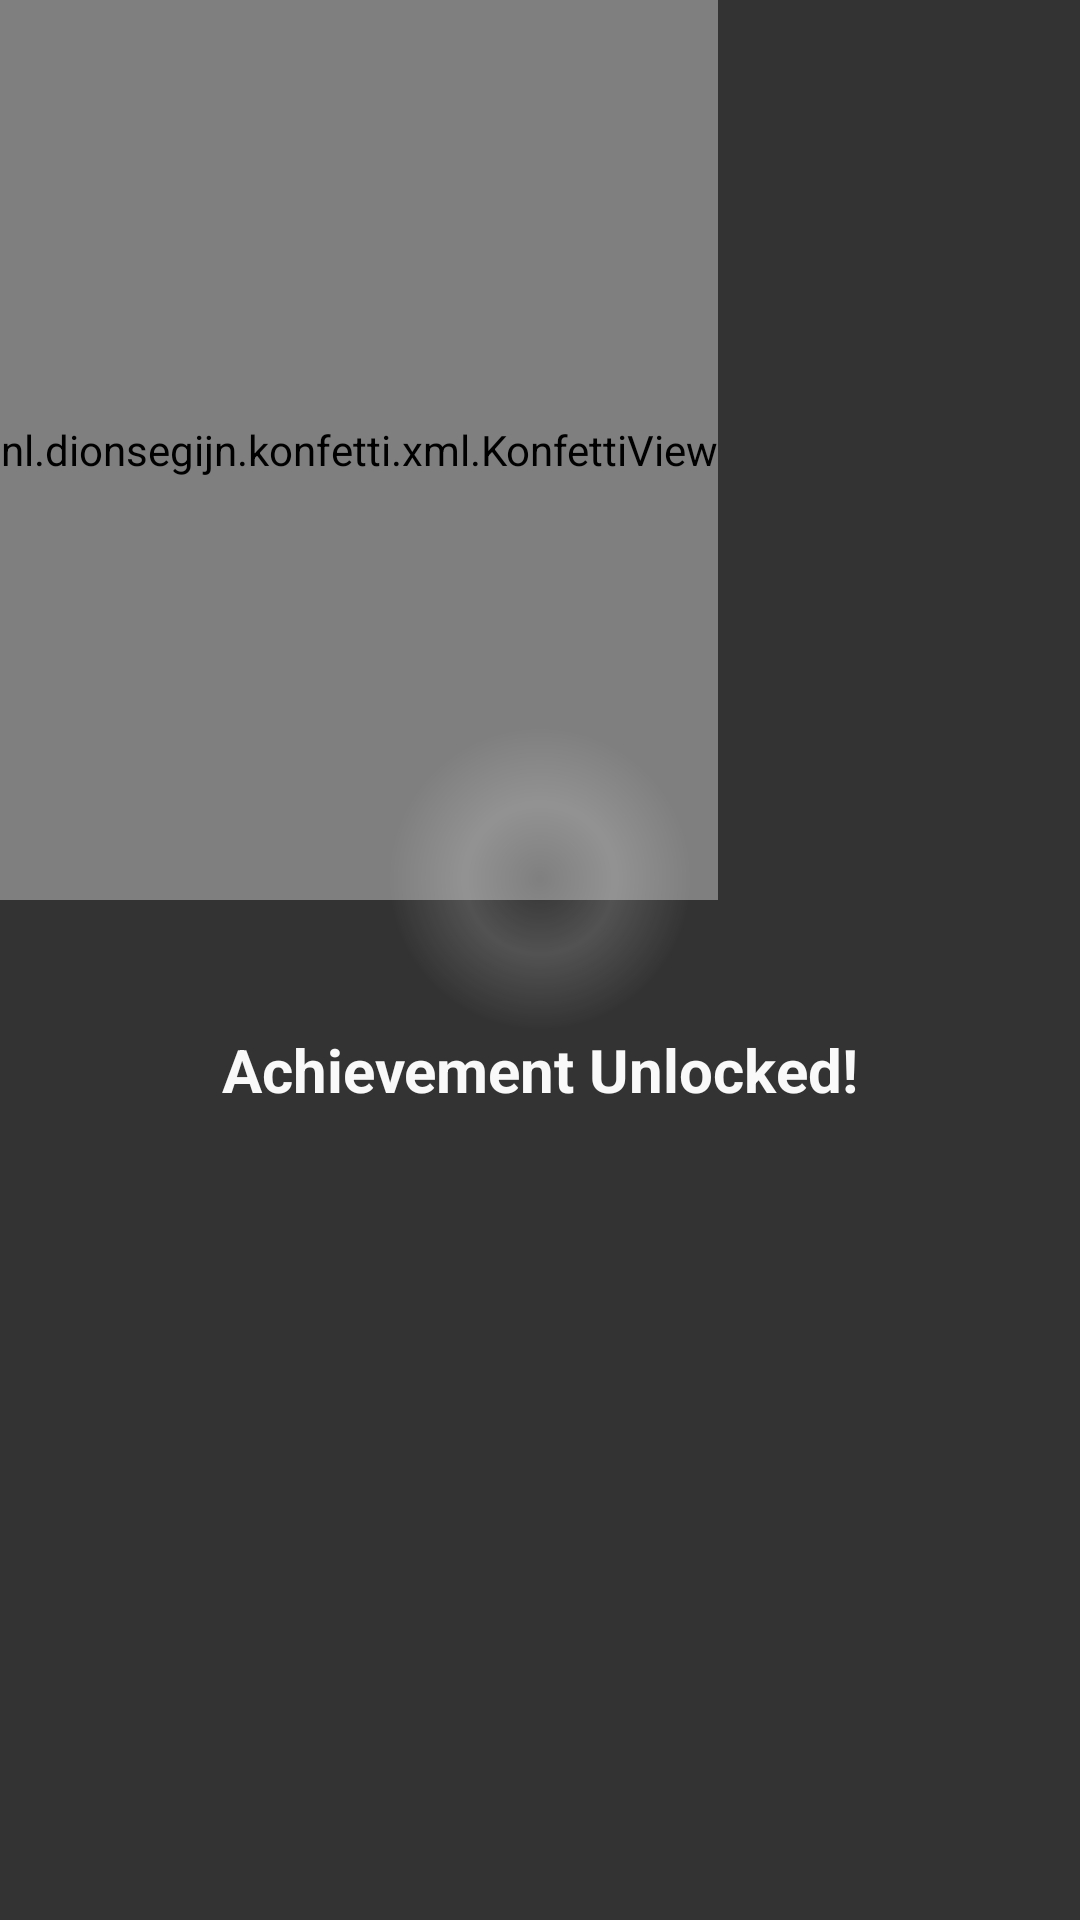

Icons on this 1080*1920 Android screen, each with the point to tap as (x,y):
Glow effect: (540,879)
